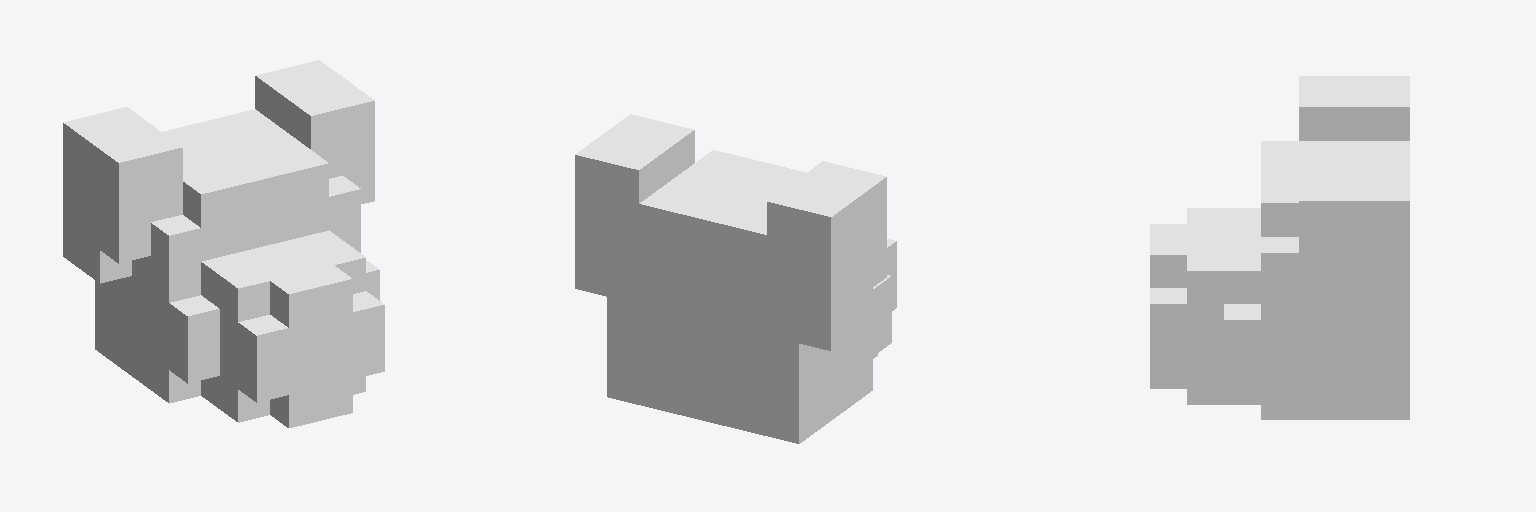
Rendered from Samy-0.obj.
3 views of the same model, side by side, from view 1: azimuth 30°, elevation 25°; view 2: azimuth 150°, elevation 25°; view 3: azimuth 270°, elevation 25° (orthographic).
Visible parts, largest first — view 1: object 1; view 2: object 1; view 3: object 1.
Boxes of the visible parts, x1,y1,x2,y2 form: object 1: [63, 60, 384, 427]; object 1: [575, 114, 896, 443]; object 1: [1150, 76, 1409, 419].
Size of the model in its own units: 0.8 by 0.7 by 0.7.